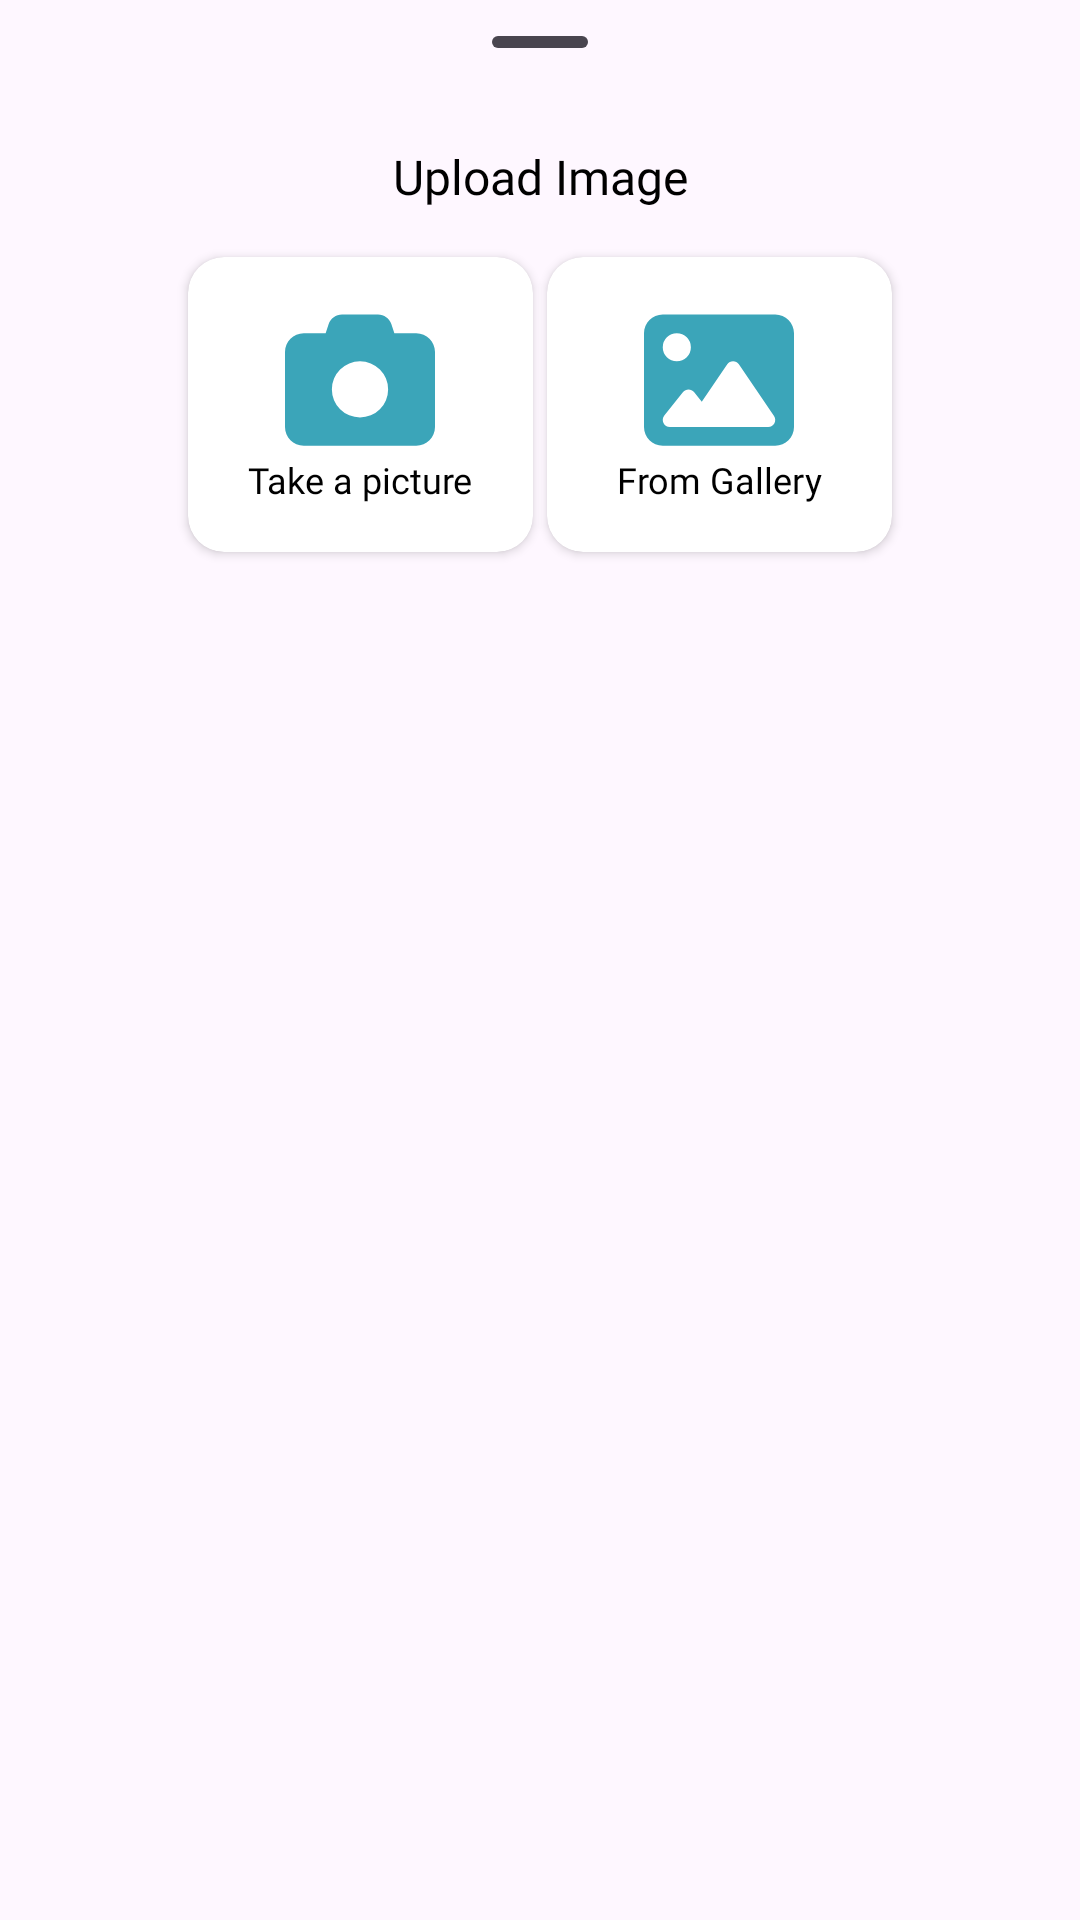

Named icons in this screenshot (1080x1920) and their bounding boxes, (x1, y1, x2, y2):
camera: (285, 314, 435, 446)
